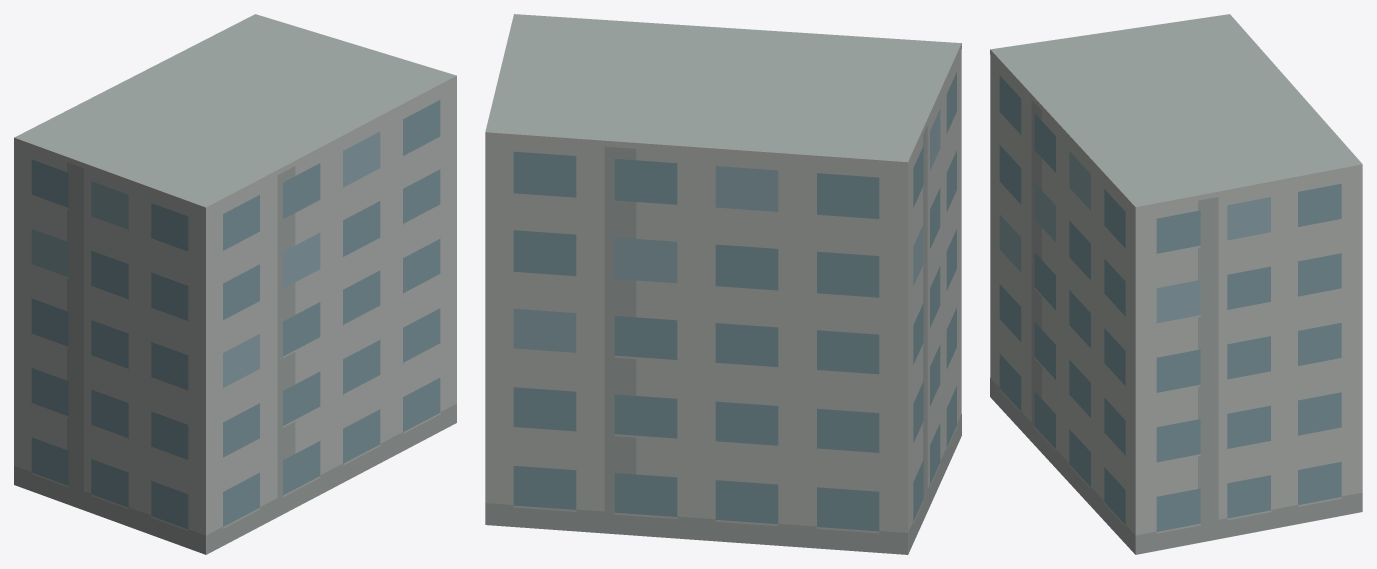
The model's file is survey-upis-33025624.glb.
3 views of the same model, side by side, from view 1: azimuth 30°, elevation 25°; view 2: azimuth 150°, elevation 25°; view 3: azimuth 270°, elevation 25° (orthographic). The views are drawn at different scales.
Parts seen in each view (by area): view 1: survey-upis-33025624.tmp; view 2: survey-upis-33025624.tmp; view 3: survey-upis-33025624.tmp.
Part boxes in pixels (x1,y1,x2,y2): survey-upis-33025624.tmp: [14, 14, 456, 554]; survey-upis-33025624.tmp: [485, 14, 961, 554]; survey-upis-33025624.tmp: [990, 14, 1362, 554].
Size of the model in its own units: 19.2 by 16.1 by 15.65.
